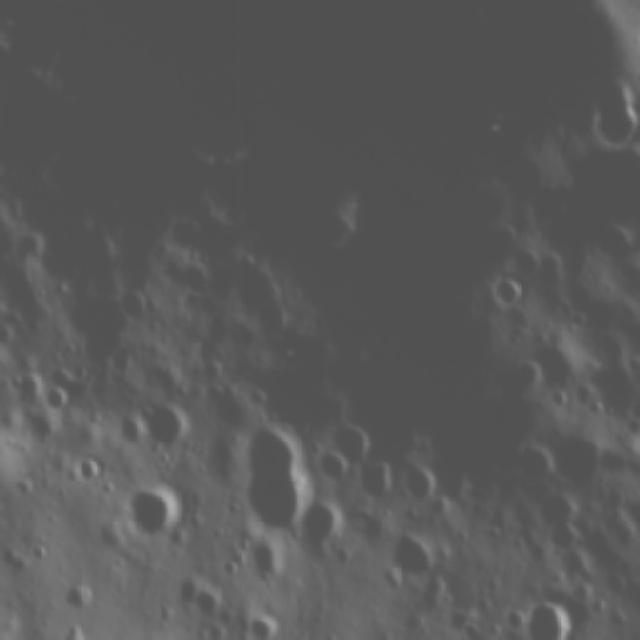crater: (227, 426, 316, 536), (375, 516, 450, 593), (113, 484, 193, 544), (543, 431, 611, 500), (508, 587, 588, 640), (587, 77, 640, 156), (293, 502, 355, 568), (139, 400, 195, 462), (50, 575, 102, 619), (542, 515, 584, 562), (486, 272, 531, 310), (238, 612, 288, 640), (41, 385, 82, 412), (57, 621, 91, 640)
